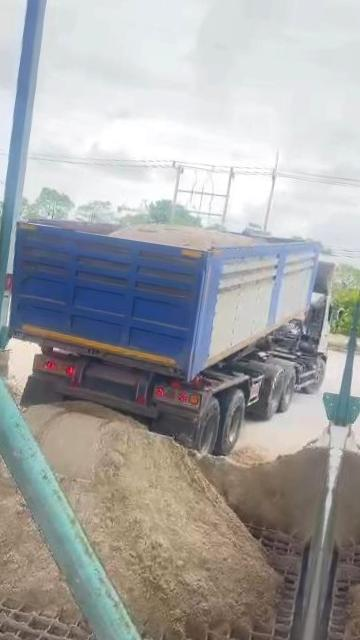sand: (27, 404, 277, 637), (0, 430, 76, 615), (198, 441, 327, 541), (112, 224, 258, 251), (228, 446, 271, 466)
